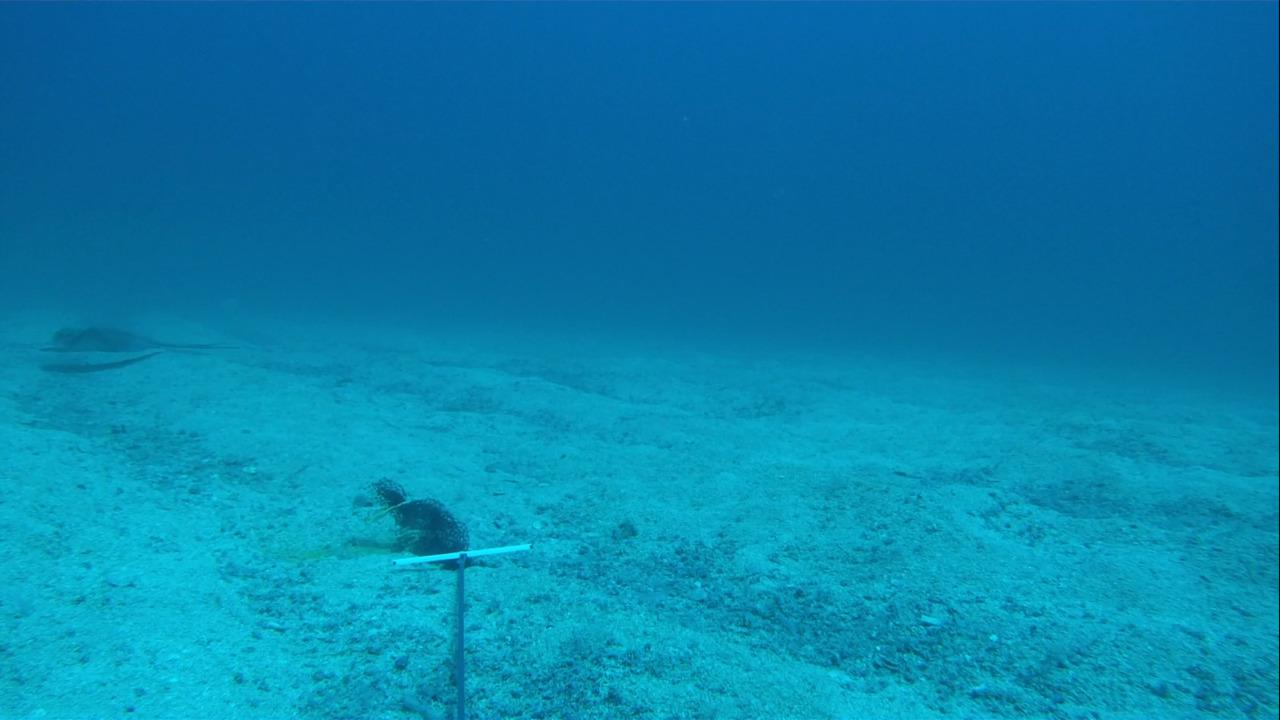myliobatis: (31, 319, 236, 358)
